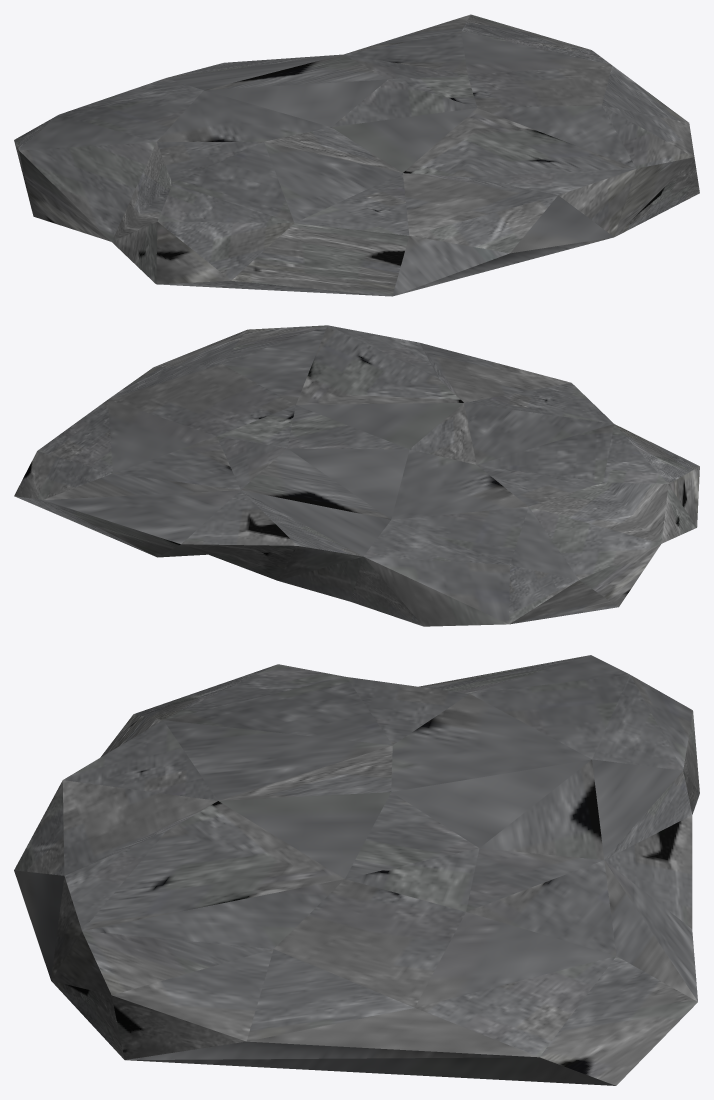
The model's file is co_stratified_slab_lod2.glb.
3 views of the same model, one above another, from view 1: azimuth 30°, elevation 25°; view 2: azimuth 150°, elevation 25°; view 3: azimuth 270°, elevation 25° (orthographic). The views are drawn at different scales.
Visible parts, largest first — view 1: output_unwrapped; view 2: output_unwrapped; view 3: output_unwrapped.
Boxes of the visible parts, x1,y1,x2,y2 form: output_unwrapped: (14,14,699,296); output_unwrapped: (14,325,699,626); output_unwrapped: (14,655,699,1085).
Bounding box in the file's own units: 1.85 × 0.2032 × 1.4.
Materials: 1 (1 with a texture image).
